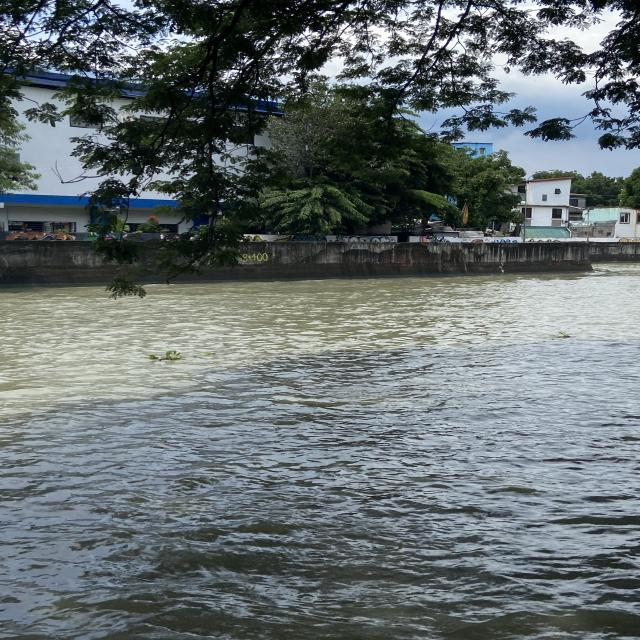Organic Debris: (137, 348, 219, 363), (549, 332, 573, 339)
